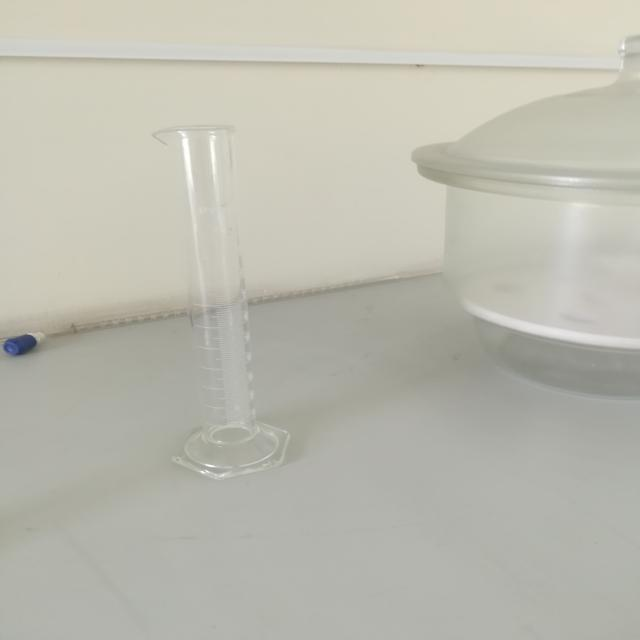Measuring_Cylinder: (99, 99, 320, 497)
